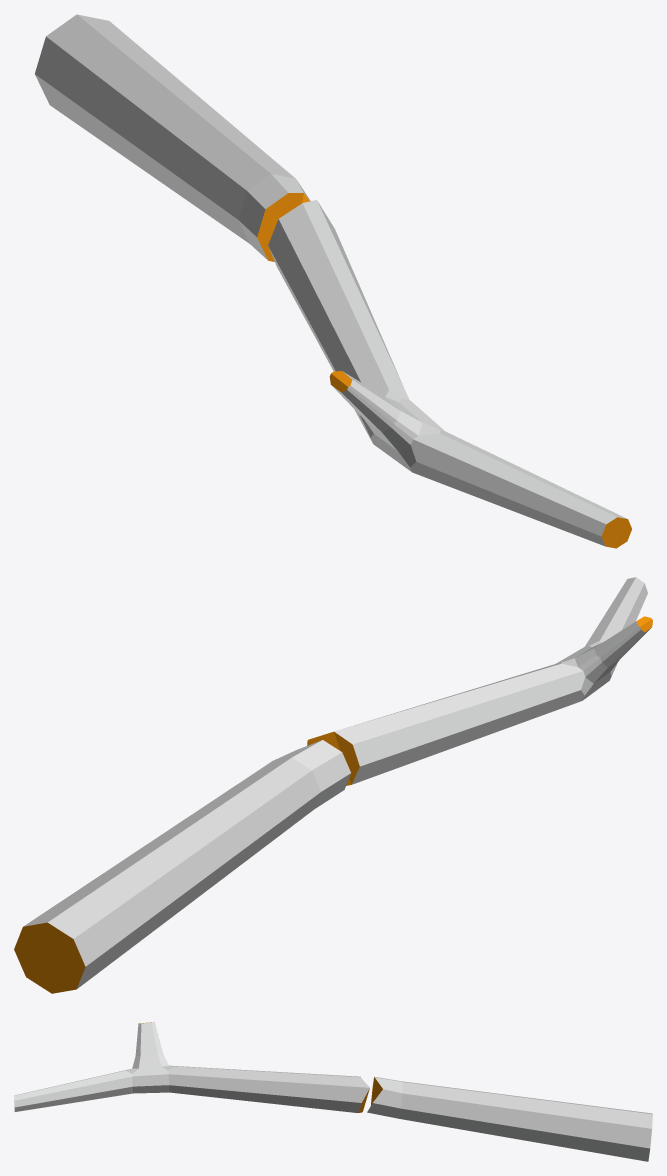
Rendered from Stick_26.fbx.
The picture shows the model from 3 angles, top to bottom: view 1: azimuth 30°, elevation 25°; view 2: azimuth 150°, elevation 25°; view 3: azimuth 270°, elevation 25°; orthographic projection. The views are drawn at different scales.
Parts seen in each view (by area): view 1: Circle.236, Circle.225; view 2: Circle.236, Circle.225; view 3: Circle.236, Circle.225.
Part boxes in pixels (bbox=[...]): Circle.236: bbox=[35, 14, 310, 261]; Circle.225: bbox=[268, 200, 631, 548]; Circle.236: bbox=[14, 740, 350, 993]; Circle.225: bbox=[307, 577, 652, 785]; Circle.236: bbox=[367, 1076, 652, 1161]; Circle.225: bbox=[14, 1022, 369, 1112].
Size of the model in its own units: 11.09 by 5.86 by 42.03.
